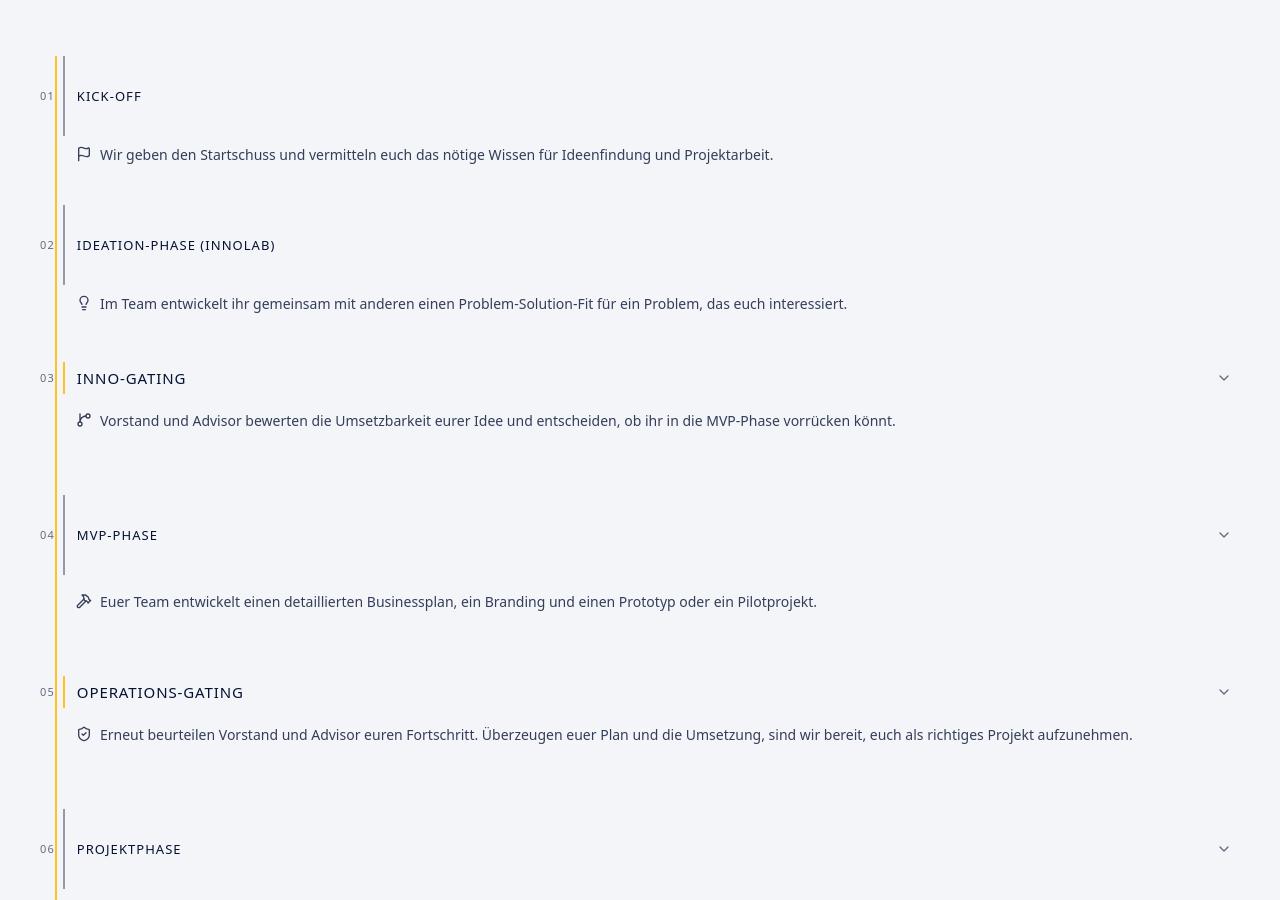
ProcessTimeline › starts closed once enhanced, and opens on click
Click the button "04 MVP-Phase".
click(108, 546)  # box [40,487,1240,583]
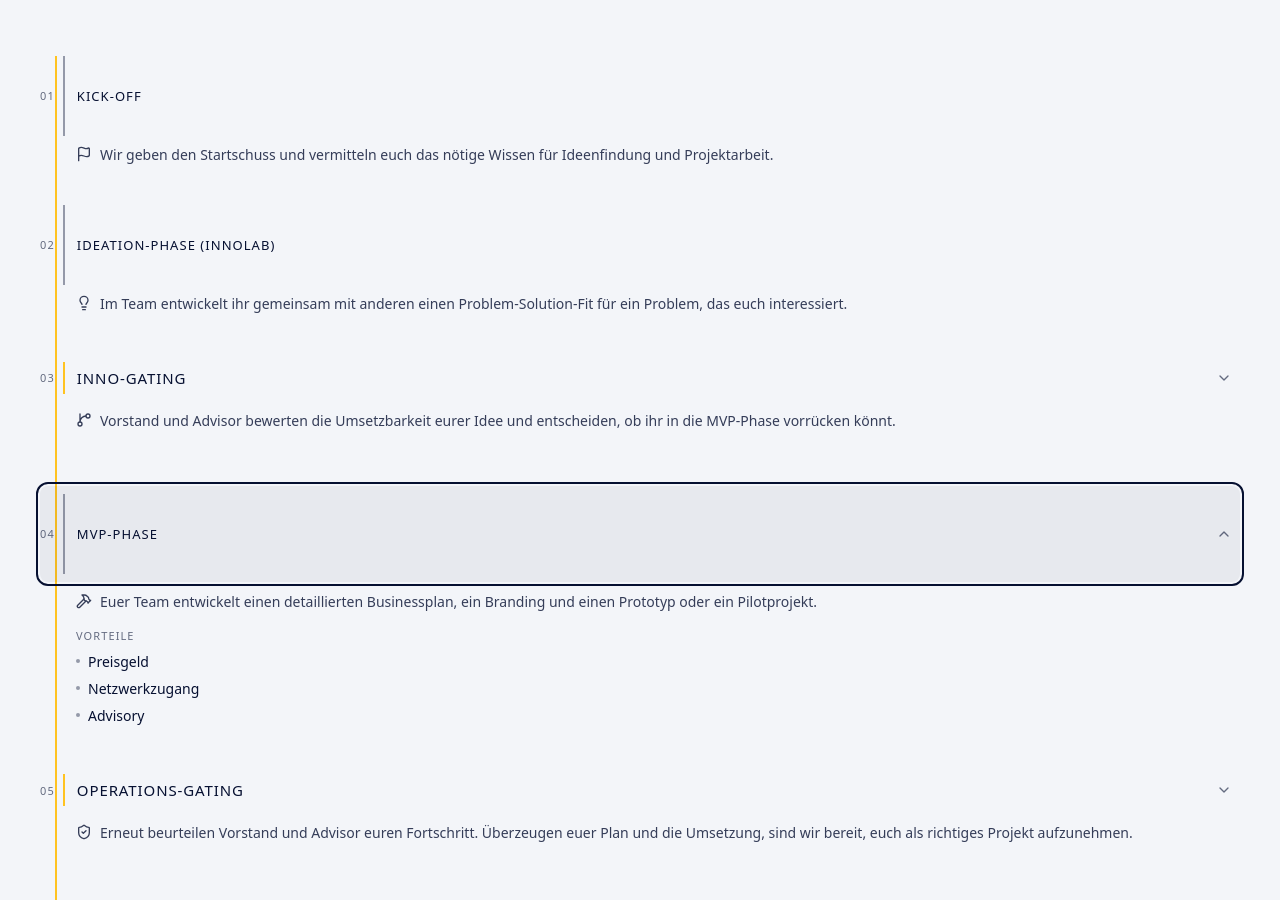
Expected: the button "04 MVP-Phase" is expanded, [40,486,1240,582]
